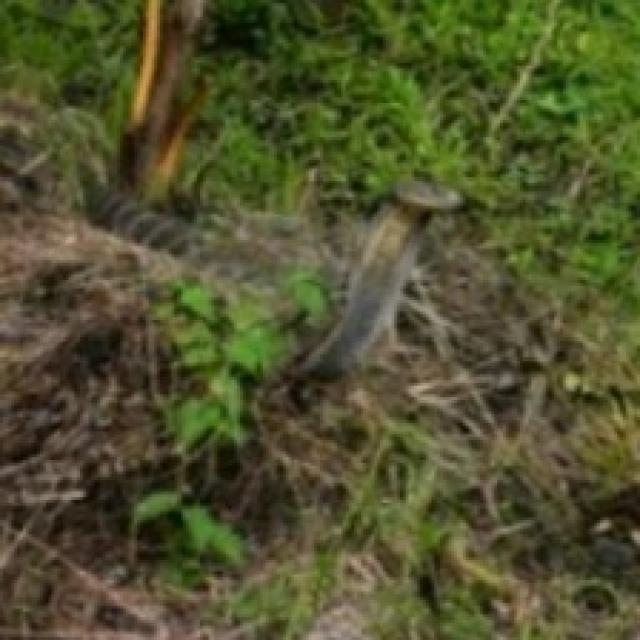king cobra: (289, 180, 460, 377)
